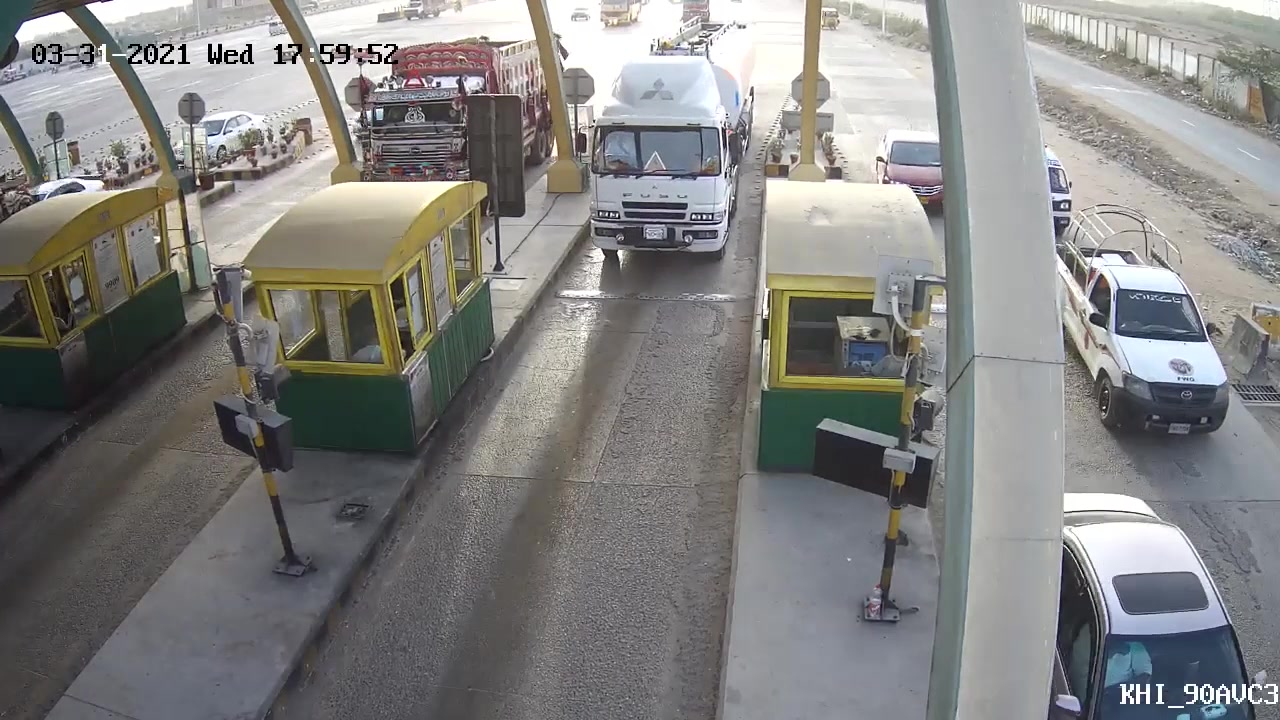F6: (575, 30, 759, 263)
